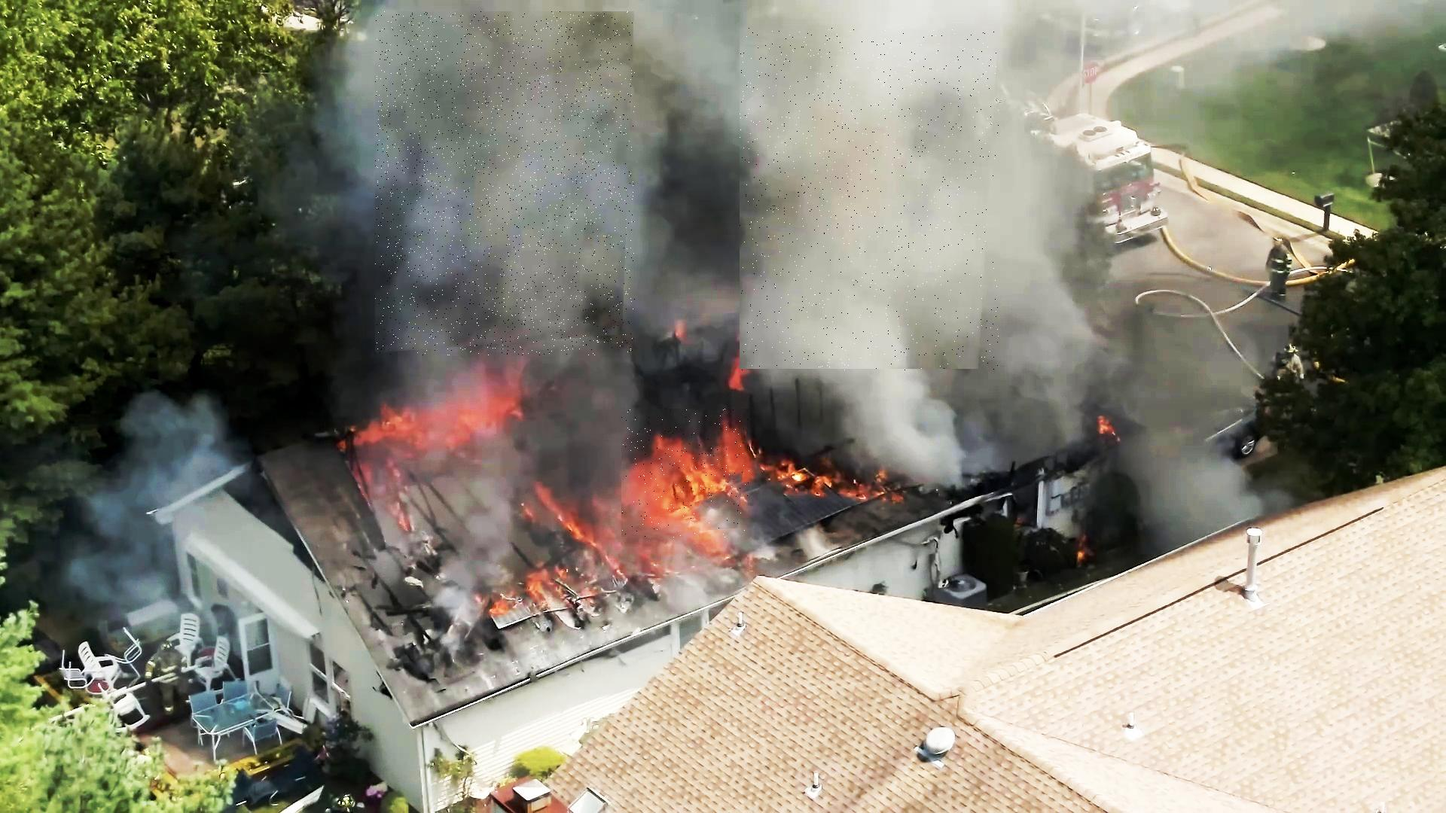fire: (622, 409, 750, 538)
smoke: (375, 12, 635, 356), (740, 28, 999, 371)
